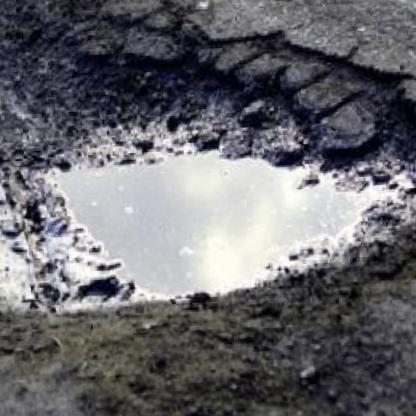pothole: (0, 34, 416, 325)
